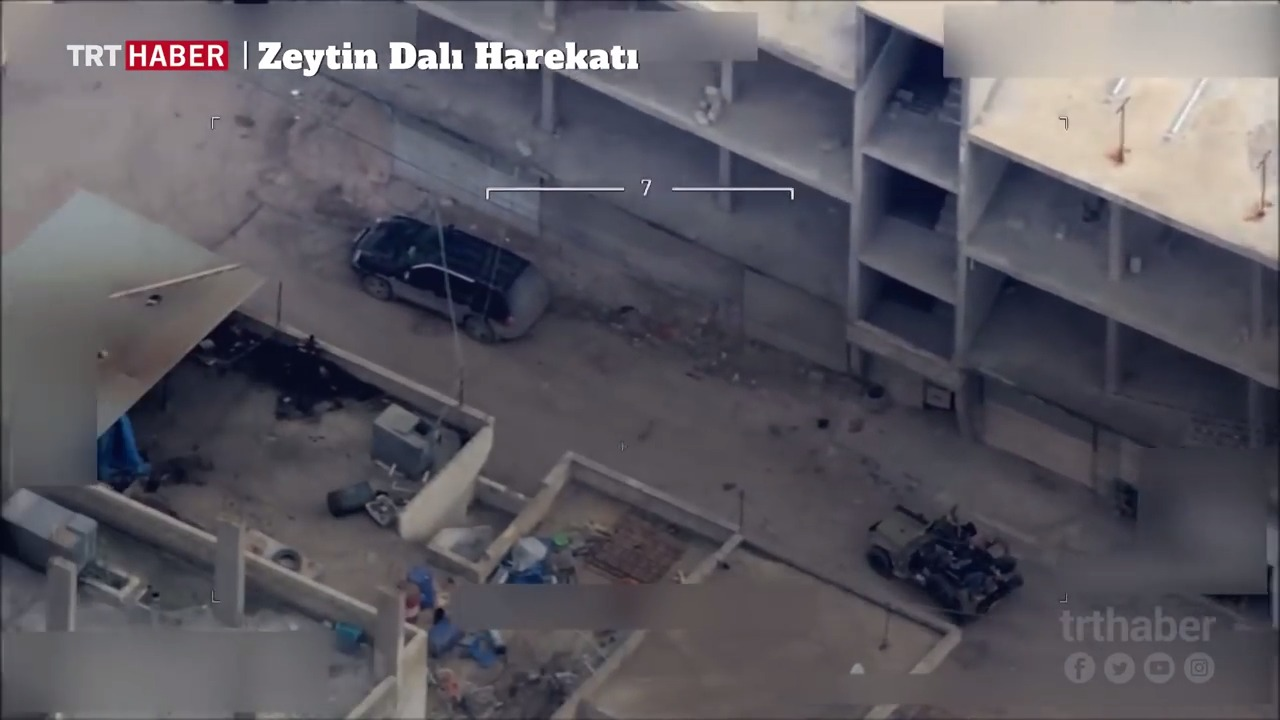arac: (345, 208, 577, 345), (864, 482, 1049, 619)
